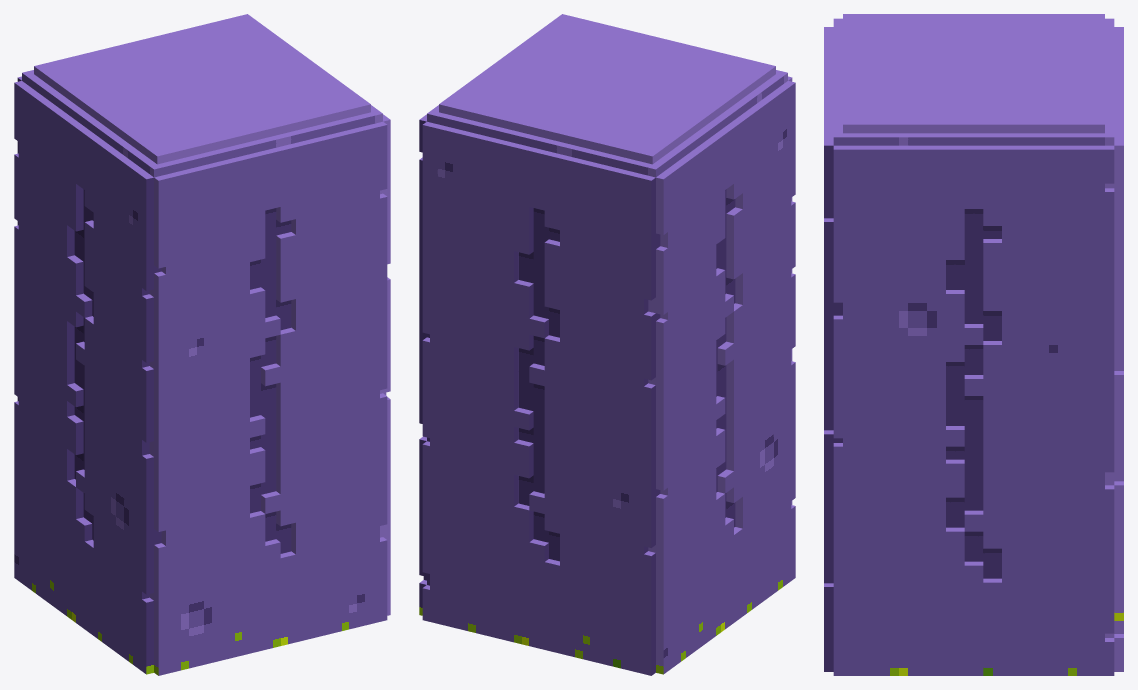
The model's file is code_monolith_codemachineao.fezao.glb.
3 views of the same model, side by side, from view 1: azimuth 30°, elevation 25°; view 2: azimuth 150°, elevation 25°; view 3: azimuth 270°, elevation 25° (orthographic). The views are drawn at different scales.
Visible parts, largest first — view 1: CODE_MONOLITH_CODEMACHINEAO; view 2: CODE_MONOLITH_CODEMACHINEAO; view 3: CODE_MONOLITH_CODEMACHINEAO.
Boxes of the visible parts, x1,y1,x2,y2 form: CODE_MONOLITH_CODEMACHINEAO: (14, 14, 390, 675); CODE_MONOLITH_CODEMACHINEAO: (419, 14, 795, 675); CODE_MONOLITH_CODEMACHINEAO: (824, 14, 1123, 675).
Bounding box in the file's own units: 2 × 4 × 2.
1 material, 1 textured.
